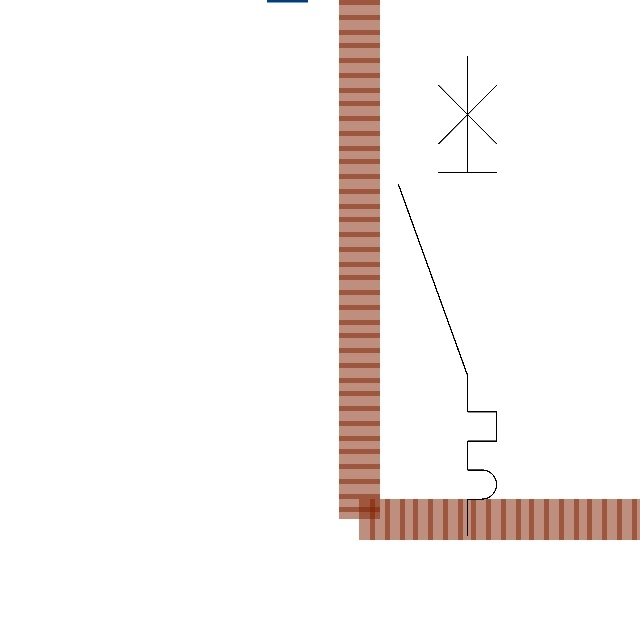interruptor_termomagnetico: (386, 44, 509, 548)
